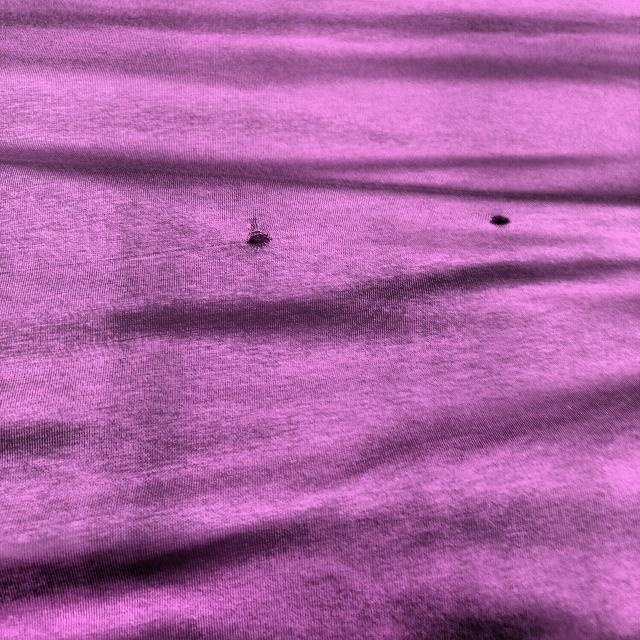Hole: (232, 214, 286, 261), (478, 202, 521, 236)
